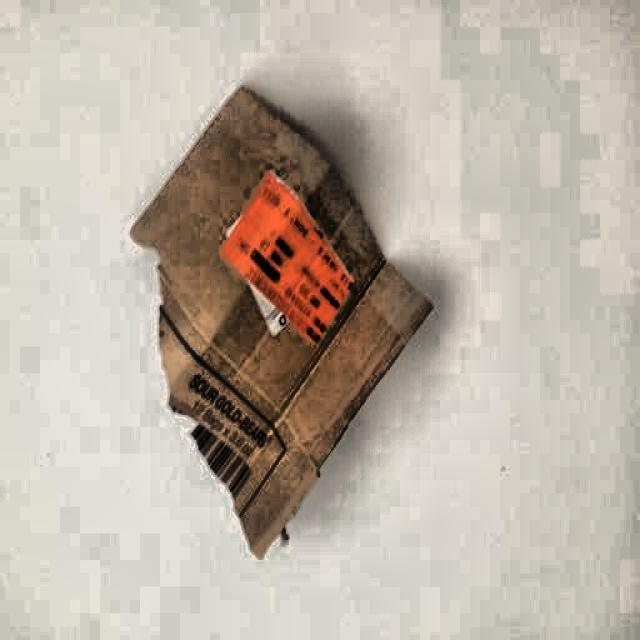cardboard: (126, 80, 436, 560)
